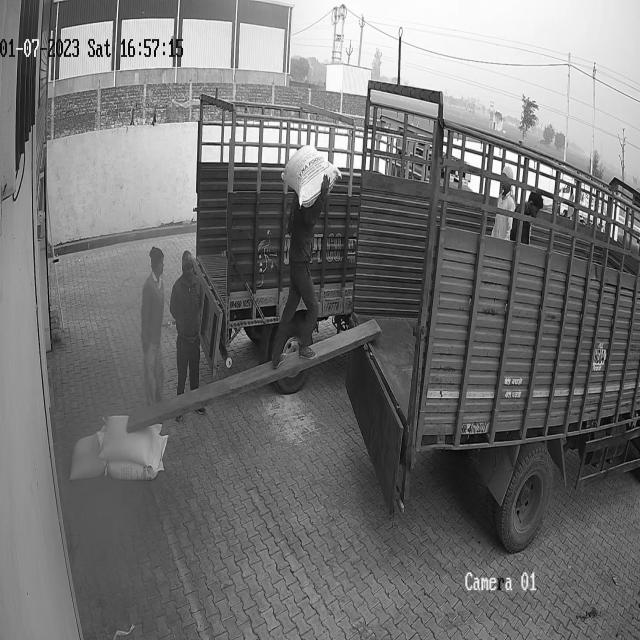sack: (282, 144, 341, 208), (99, 415, 162, 466), (106, 434, 169, 479), (68, 432, 108, 481)
